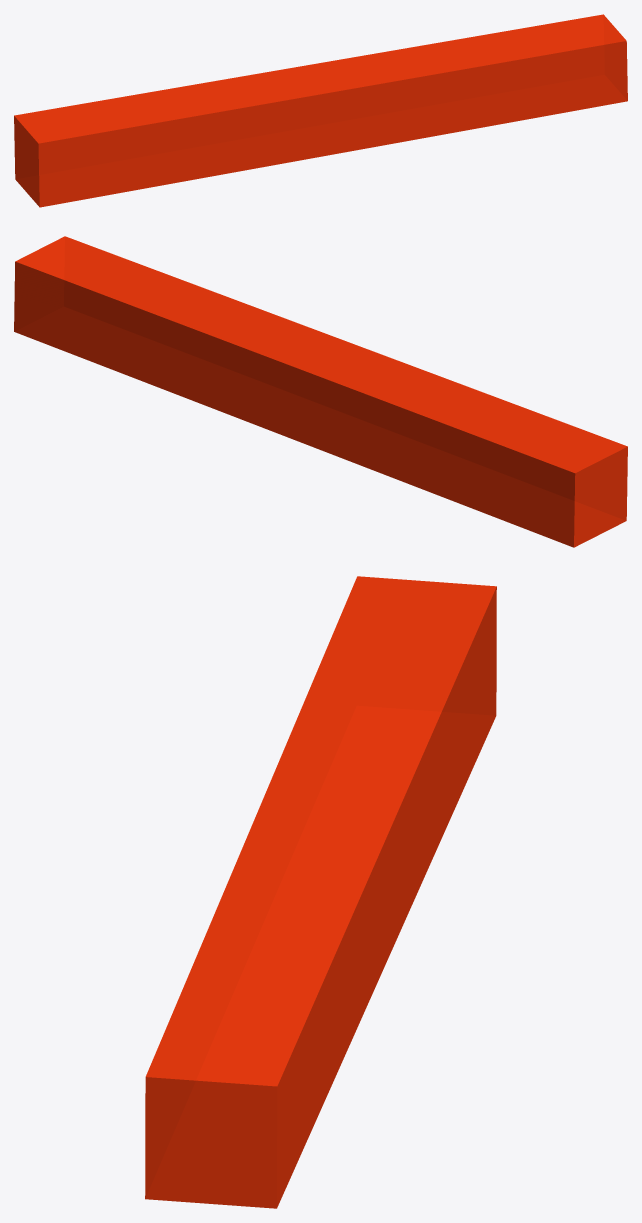
File: Event_421115418_EErechit_34.fbx
The picture shows the model from 3 angles, top to bottom: view 1: azimuth 30°, elevation 25°; view 2: azimuth 150°, elevation 25°; view 3: azimuth 270°, elevation 25°; orthographic projection. The views are drawn at different scales.
Visible parts, largest first — view 1: Model; view 2: Model; view 3: Model.
Boxes of the visible parts, x1,y1,x2,y2 form: Model: (14,14,627,207); Model: (14,236,627,547); Model: (145,576,496,1208).
Size of the model in its own units: 0.6846 by 0.0898 by 0.1909.
